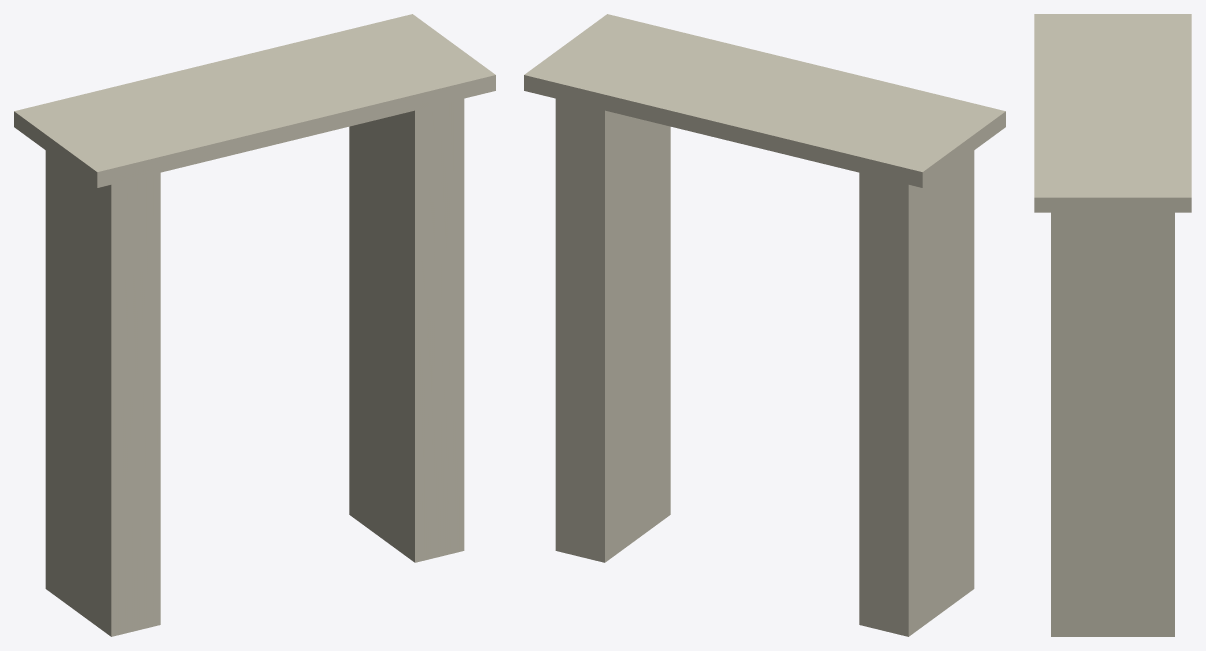
3 views of the same model, side by side, from view 1: azimuth 30°, elevation 25°; view 2: azimuth 150°, elevation 25°; view 3: azimuth 270°, elevation 25° (orthographic). The views are drawn at different scales.
Size of the model in its own units: 10.5 by 12 by 3.8.
